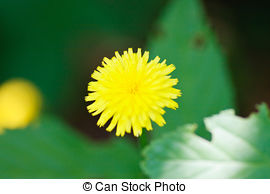dandelion: (86, 51, 184, 133)
